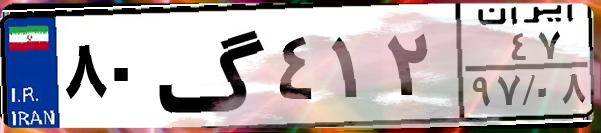0: (110, 28, 156, 98), (535, 70, 560, 125)
1: (330, 28, 385, 110)
2: (385, 28, 445, 110)
4: (270, 28, 330, 110), (508, 27, 537, 80)
7: (537, 27, 568, 80), (495, 70, 520, 125)
8: (57, 26, 110, 100), (560, 70, 590, 125)
9: (470, 70, 495, 125)
گ: (156, 12, 270, 120)
